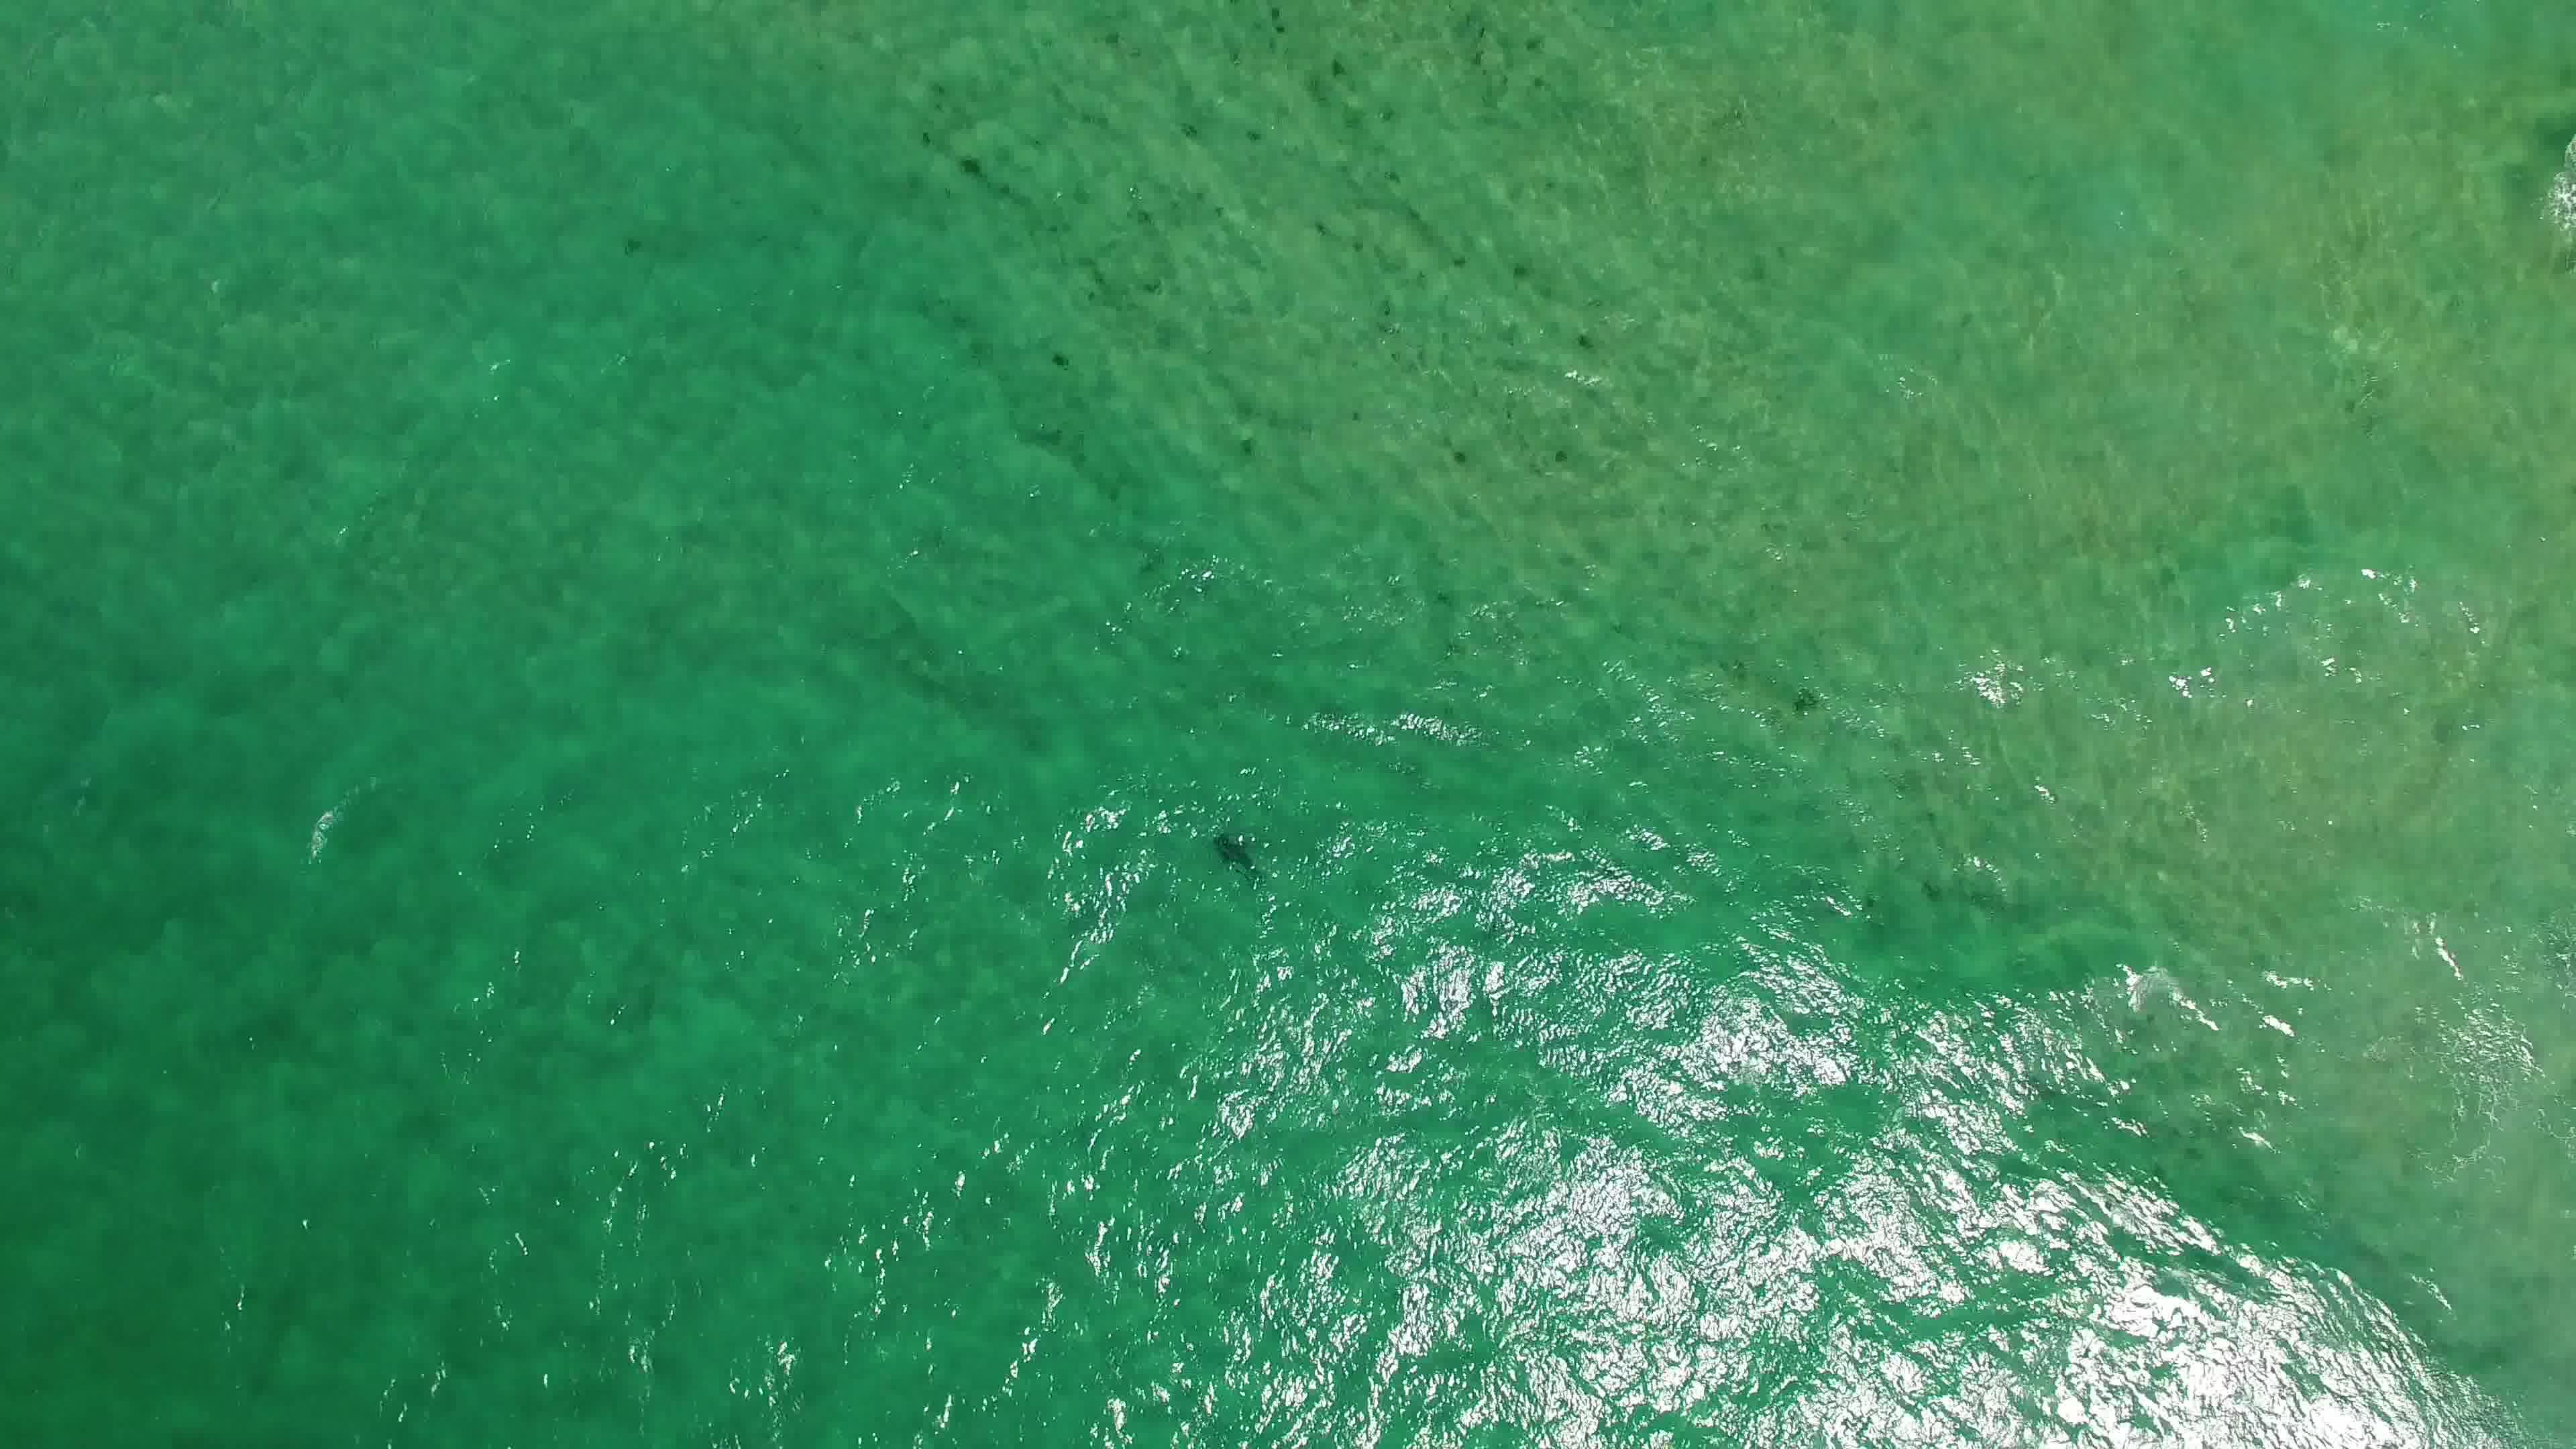shark: (1210, 830, 1270, 883)
